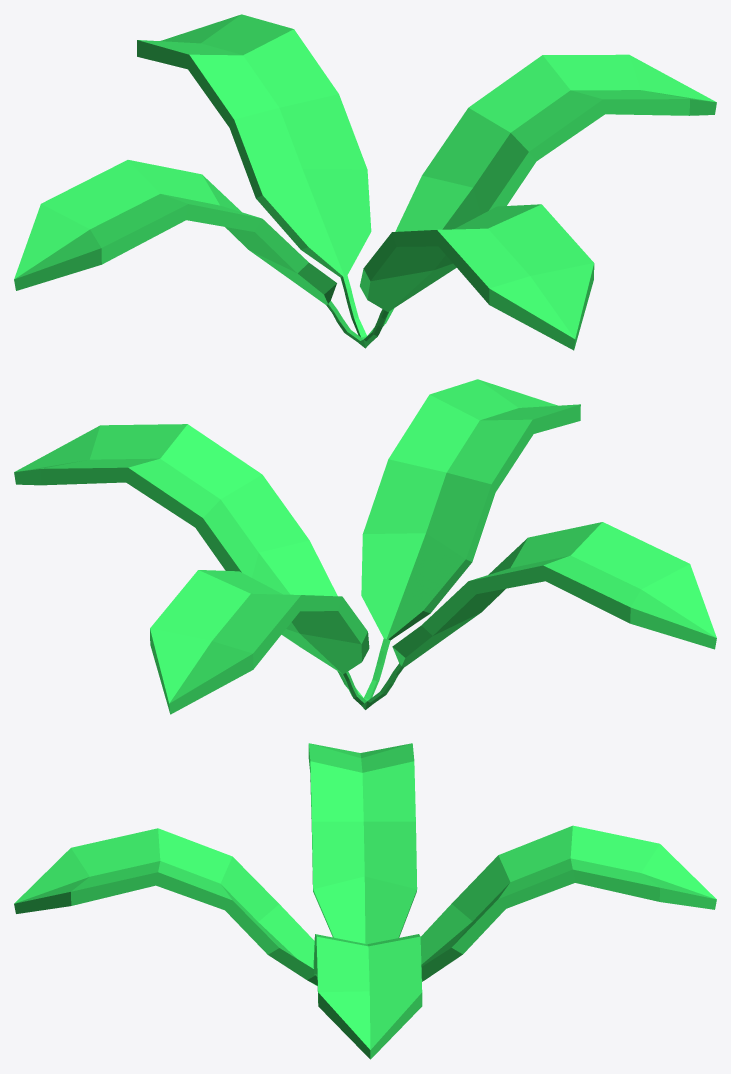
File: Planta_1.fbx
3 views of the same model, one above another, from view 1: azimuth 30°, elevation 25°; view 2: azimuth 150°, elevation 25°; view 3: azimuth 270°, elevation 25° (orthographic). The views are drawn at different scales.
Parts seen in each view (by area): view 1: Planta; view 2: Planta; view 3: Planta.
Boxes of the visible parts, left/top/right/bottom form: Planta: left=14, top=14, right=716, bottom=350; Planta: left=14, top=379, right=716, bottom=714; Planta: left=14, top=743, right=716, bottom=1059.
Size of the model in its own units: 2.71 by 0.7999 by 2.71.
